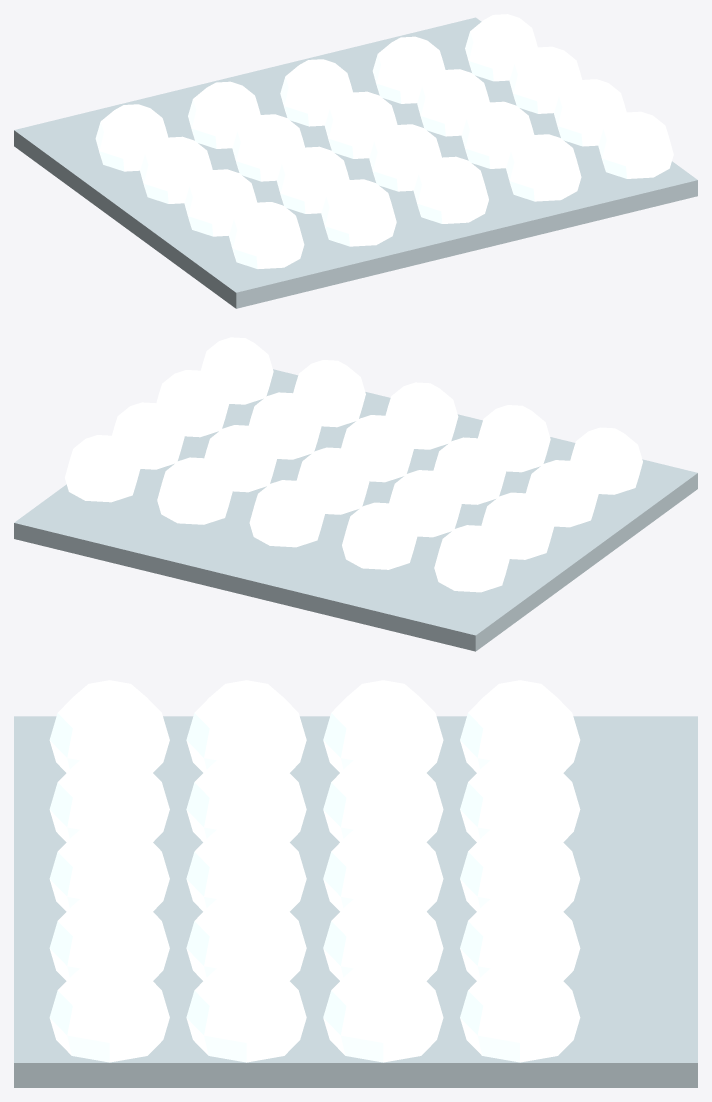
Rendered from bubble_wrap.fbx.
The picture shows the model from 3 angles, top to bottom: view 1: azimuth 30°, elevation 25°; view 2: azimuth 150°, elevation 25°; view 3: azimuth 270°, elevation 25°; orthographic projection. The views are drawn at different scales.
Parts seen in each view (by area): view 1: BW_Sheet, BW_B0_1, BW_B0_3, BW_B0_4, BW_B0_2, BW_B0_0, BW_B1_2, BW_B3_3, BW_B1_3, BW_B2_3, BW_B1_0, BW_B1_4 (+9 smaller); view 2: BW_Sheet, BW_B3_3, BW_B3_0, BW_B3_1, BW_B3_2, BW_B3_4, BW_B2_0, BW_B1_1, BW_B1_0, BW_B1_2, BW_B0_3, BW_B2_4 (+9 smaller); view 3: BW_Sheet, BW_B3_4, BW_B0_4, BW_B2_4, BW_B1_4, BW_B1_3, BW_B0_1, BW_B2_0, BW_B3_2, BW_B2_3, BW_B1_0, BW_B2_1 (+9 smaller).
Boxes of the visible parts, x1,y1,x2,y2 form: BW_Sheet: (14,17,697,308); BW_B0_1: (321,179,396,246); BW_B0_3: (506,134,581,201); BW_B0_4: (598,111,673,178); BW_B0_2: (413,156,488,223); BW_B0_0: (229,202,304,268); BW_B1_2: (369,124,441,191); BW_B3_3: (372,36,445,103); BW_B1_3: (461,101,534,168); BW_B2_3: (417,69,489,136); BW_B1_0: (184,169,257,236); BW_B1_4: (554,79,626,146); BW_Sheet: (14,369,697,651); BW_B3_3: (157,457,232,524); BW_B3_0: (434,525,509,592); BW_B3_1: (342,502,417,569); BW_B3_2: (249,480,324,547); BW_B3_4: (65,435,140,502); BW_B2_0: (481,492,553,559); BW_B1_1: (433,437,506,504); BW_B1_0: (526,460,598,527); BW_B1_2: (341,415,413,482); BW_B0_3: (293,360,365,427); BW_B2_4: (112,402,184,469); BW_Sheet: (14,716,697,1087); BW_B3_4: (460,957,580,1062); BW_B0_4: (49,957,169,1062); BW_B2_4: (323,957,443,1062); BW_B1_4: (186,957,306,1062); BW_B1_3: (186,888,306,980); BW_B0_1: (49,749,169,842); BW_B2_0: (323,680,443,772); BW_B3_2: (460,819,580,911); BW_B2_3: (323,888,443,980); BW_B1_0: (186,680,306,772); BW_B2_1: (323,749,443,841).
Size of the model in its own units: 0.604 by 0.088 by 0.5.
